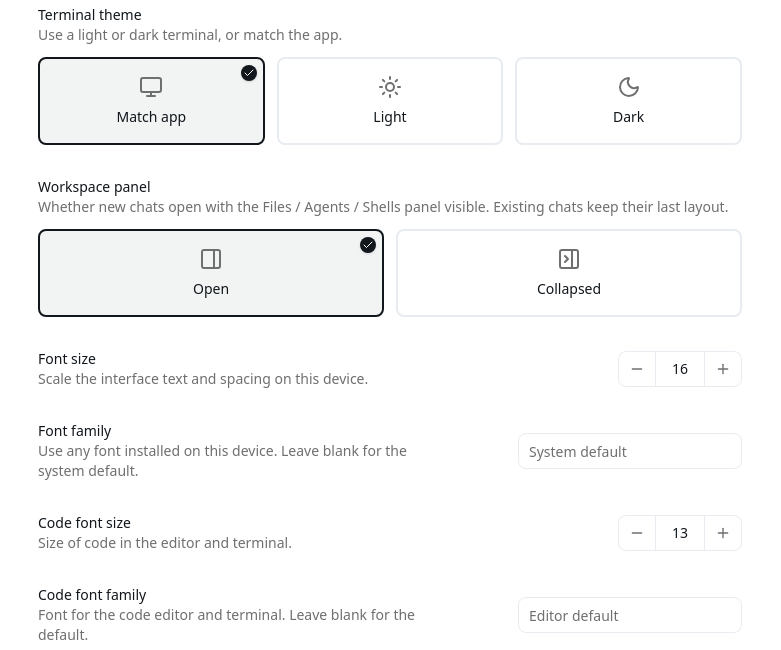
SettingsPage › shows the default UI font size and steps it up, persisting the choice
This screenshot has width=781, height=650.
(page scrolled)
Expected: the number field with test id "ui-font-size-input" holds "16", [664,359,696,379]
Click the button with test id "ui-font-size-inc" at (723,369), box [705,352,741,386]
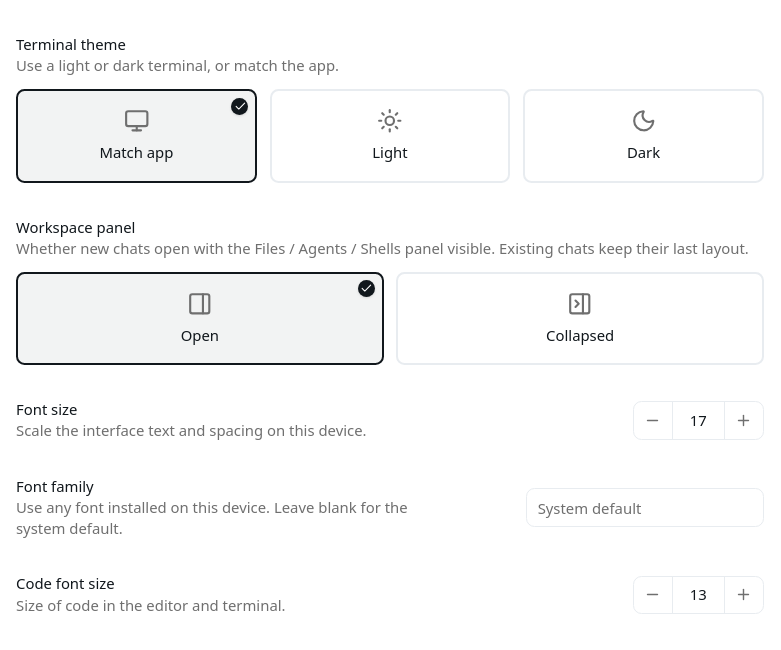
Now the number field with test id "ui-font-size-input" holds "17", box [681,410,715,431]
